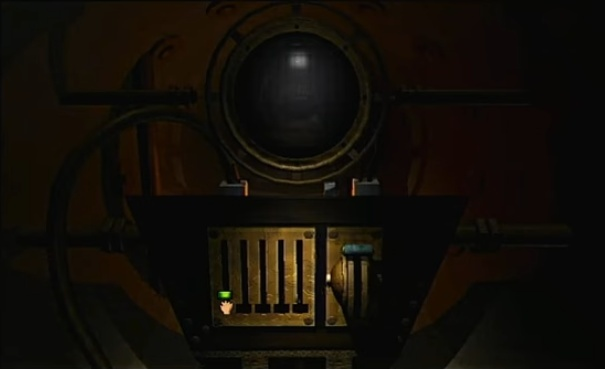Hold: (216, 296, 238, 321)
